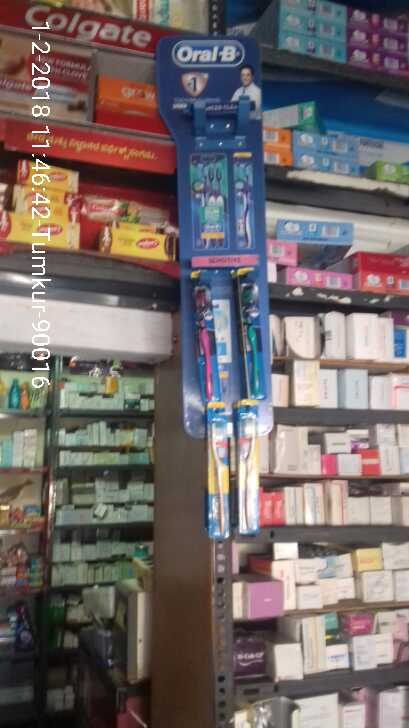oralb: (193, 405, 236, 543), (191, 157, 228, 263), (236, 259, 263, 402), (228, 402, 259, 522), (197, 280, 220, 402), (227, 166, 257, 256)
